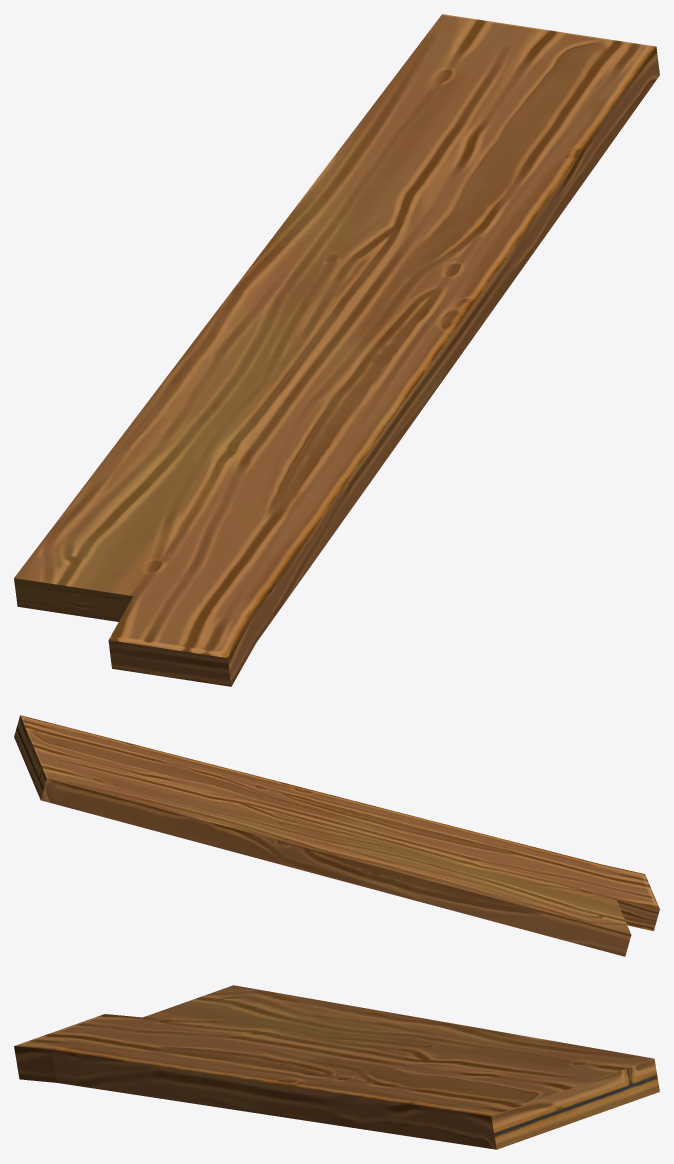
The picture shows the model from 3 angles, top to bottom: view 1: azimuth 30°, elevation 25°; view 2: azimuth 150°, elevation 25°; view 3: azimuth 270°, elevation 25°; orthographic projection. The views are drawn at different scales.
Visible parts, largest first — view 1: Cube.645; view 2: Cube.645; view 3: Cube.645.
Boxes of the visible parts, x1,y1,x2,y2 form: Cube.645: [14, 14, 659, 686]; Cube.645: [14, 715, 659, 956]; Cube.645: [14, 985, 659, 1149].
Size of the model in its own units: 325 by 115 by 247.
Materials: 1 (1 with a texture image).
